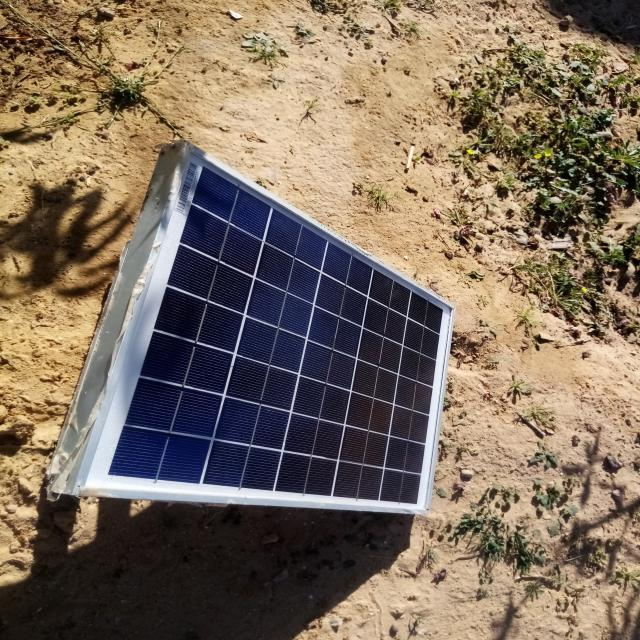no faulty: (74, 149, 453, 512)
